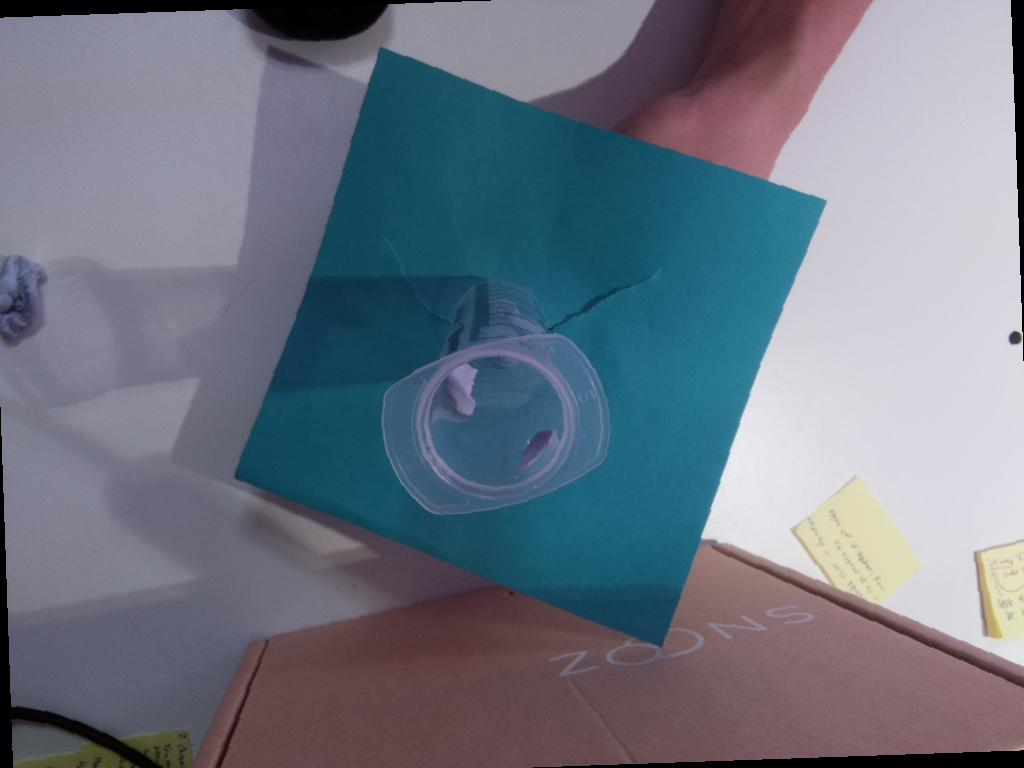dirty: (381, 334, 611, 514)
